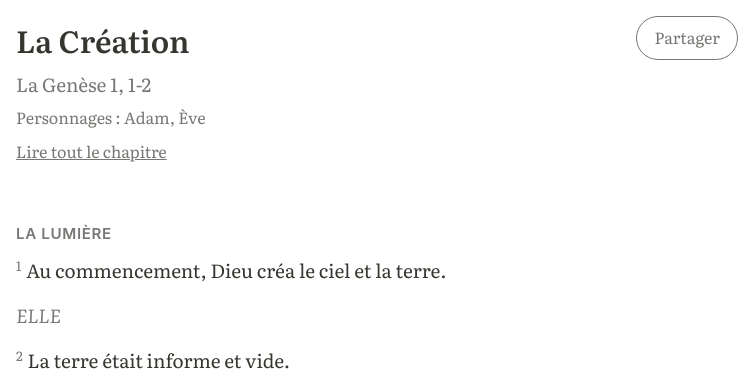
it: Passage : bouton Partager › partage le passage
This screenshot has width=755, height=386.
Click the button "Partager" at {"x": 687, "y": 38}, box [636, 16, 738, 60]
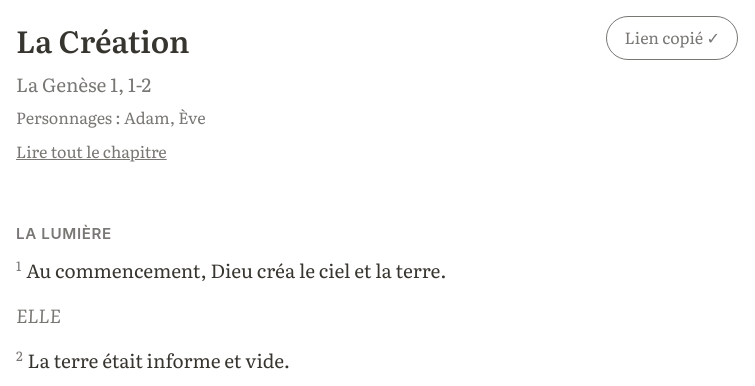
Now the button "Lien copié ✓" is shown, box [606, 16, 738, 60]
